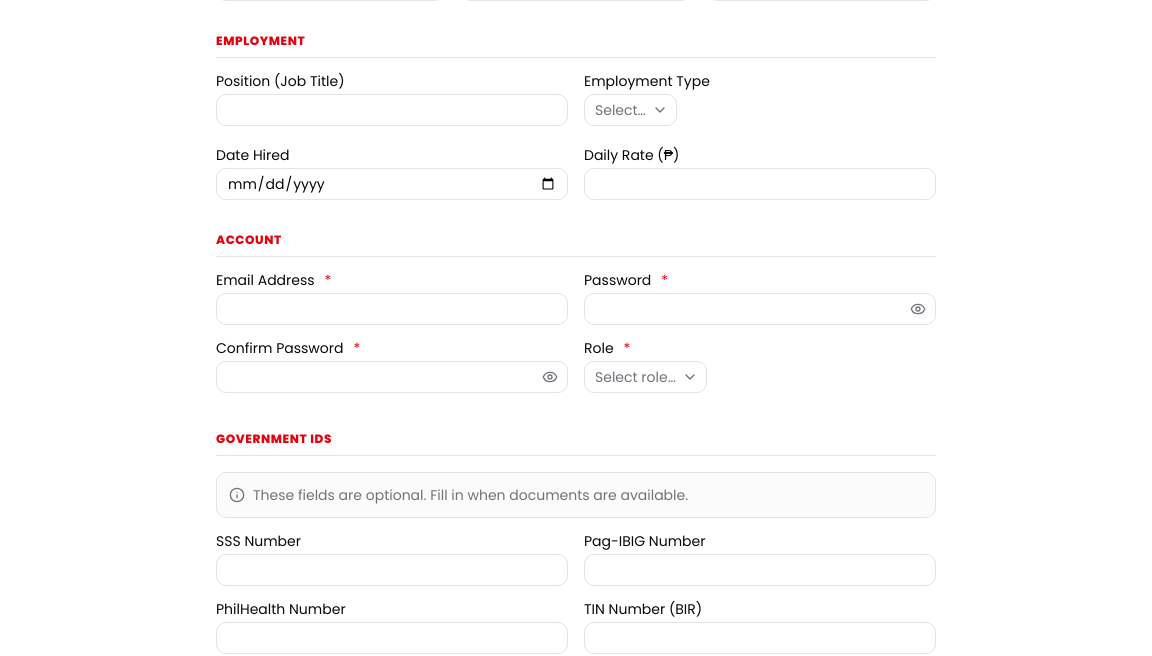
Test: CreateUserPage › shows number error for password without a digit
(page scrolled)
Type "Password" into the 1st password field at coordinates (760, 309), box [584,293,936,325]
(page scrolled)
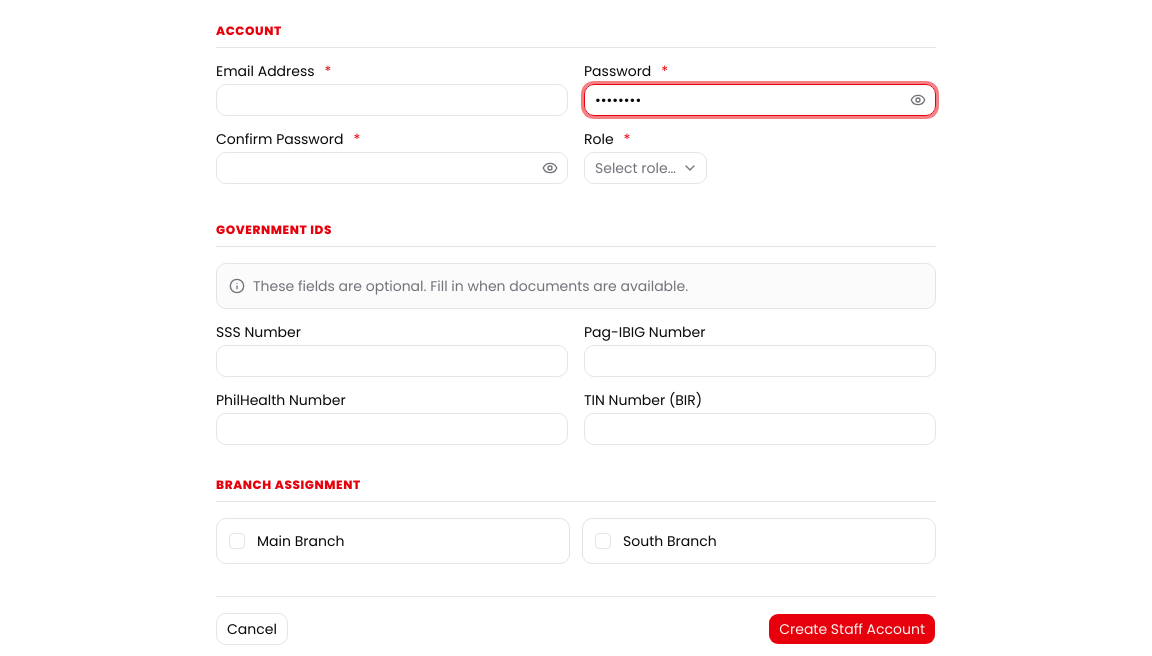
Click the button "Create Staff Account" at coordinates (852, 629), box [768,613,936,645]
(page scrolled)
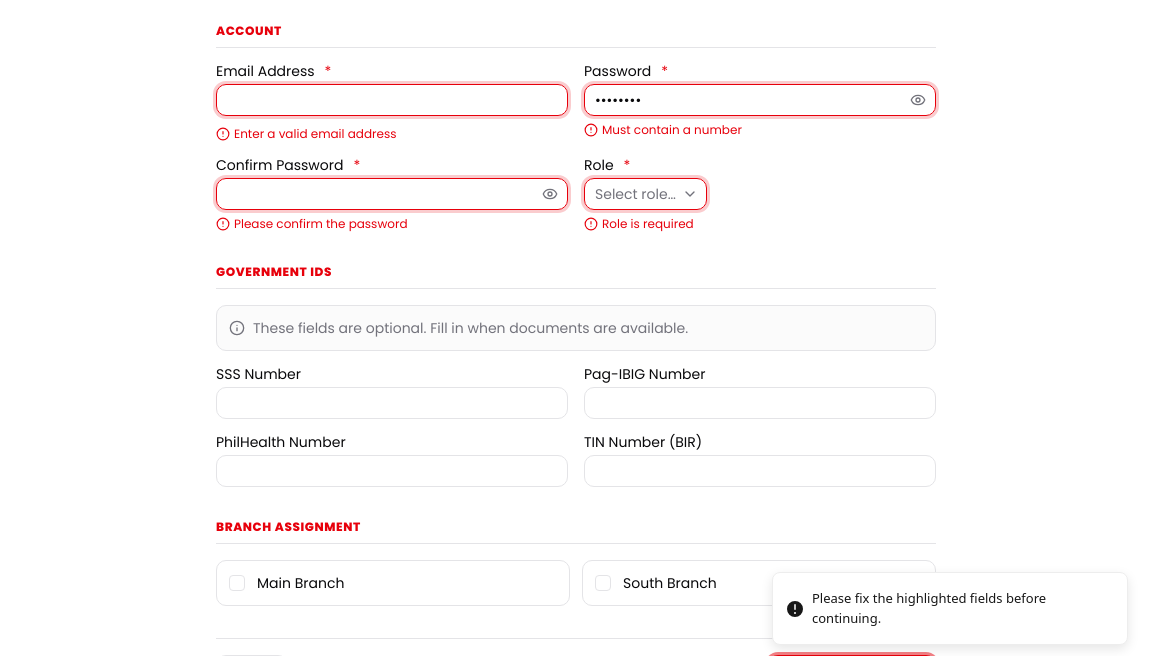
Now the text "Must contain a number" is shown, box [584,121,742,138]
